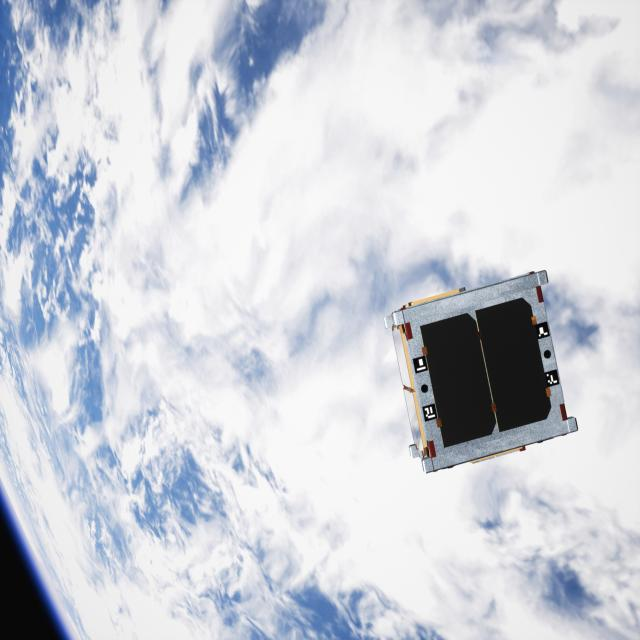medium_debris: (373, 266, 584, 478)
